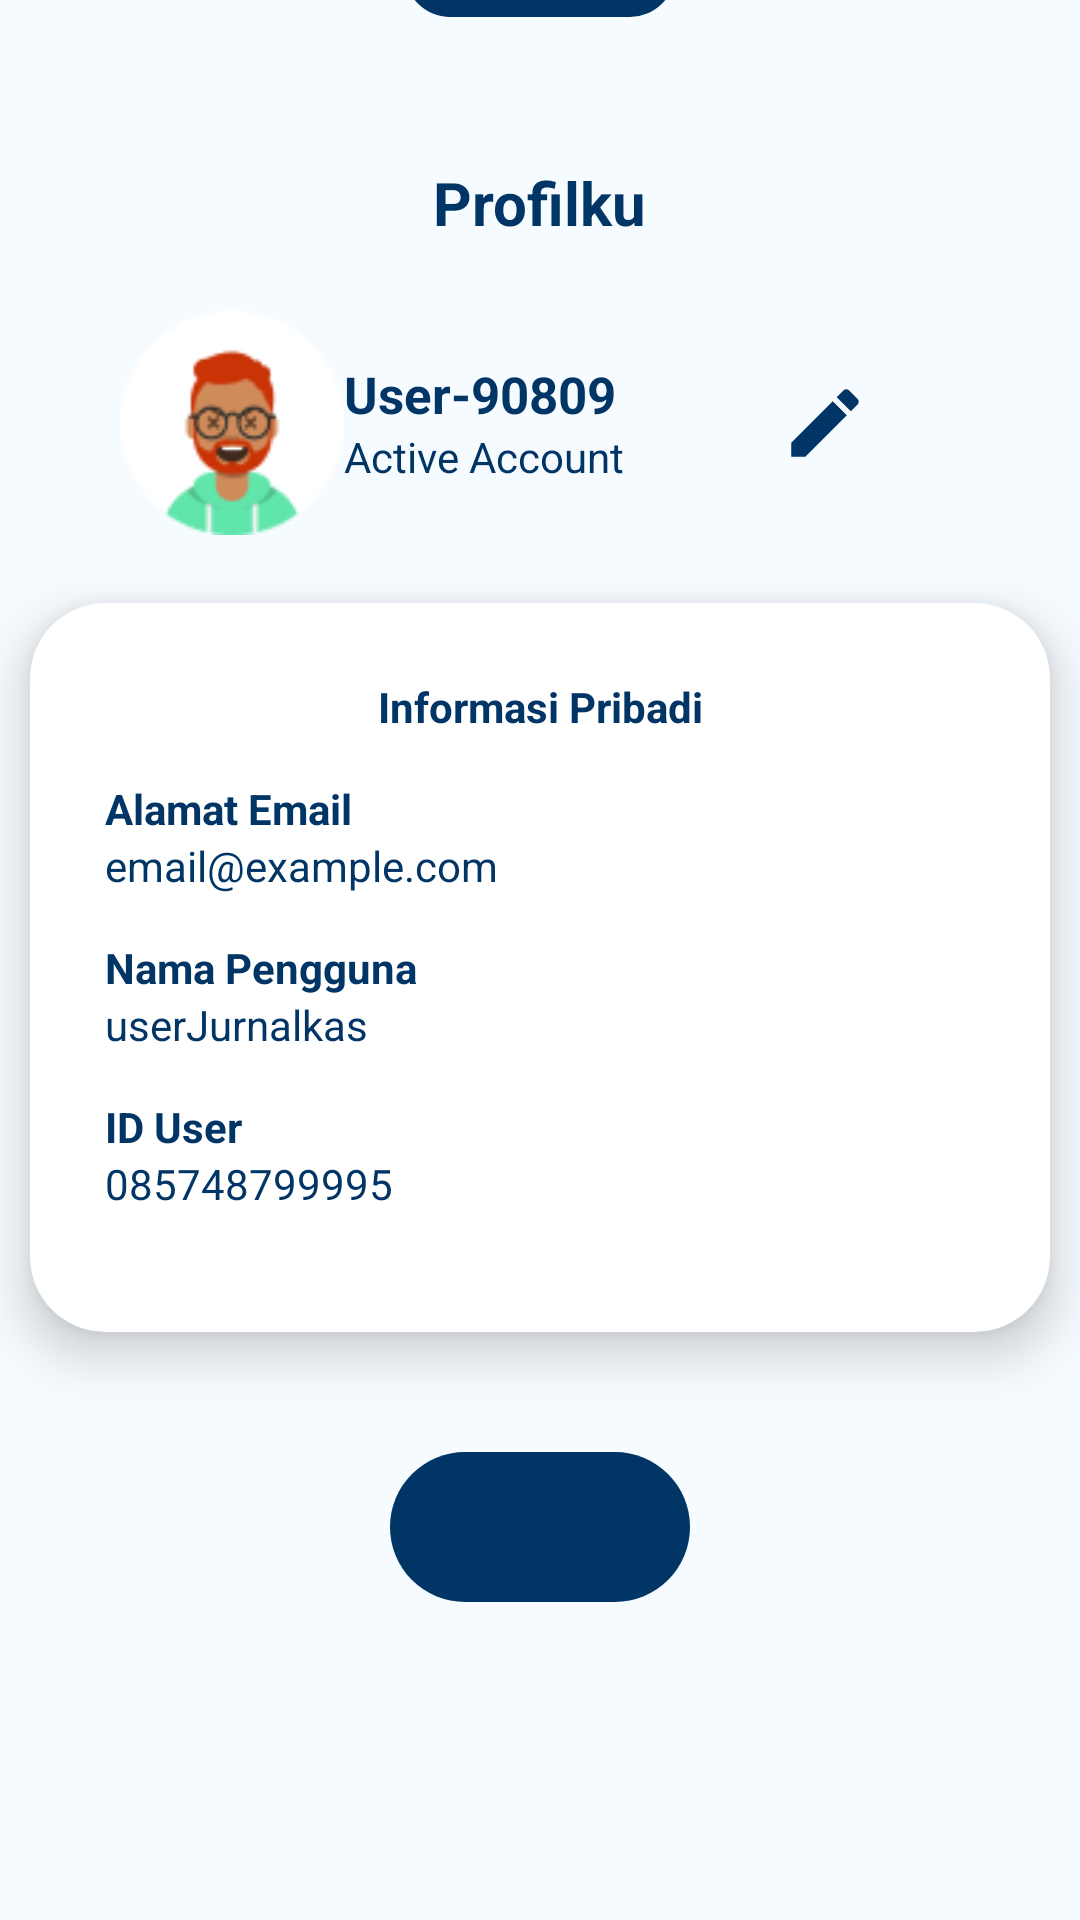

Screen size 1080 x 1920. Icon name, then its box in pixels as bbox=(x1, y1, x2, y2):
ava: bbox=(166, 350, 298, 535)
edit: bbox=(791, 389, 859, 457)
